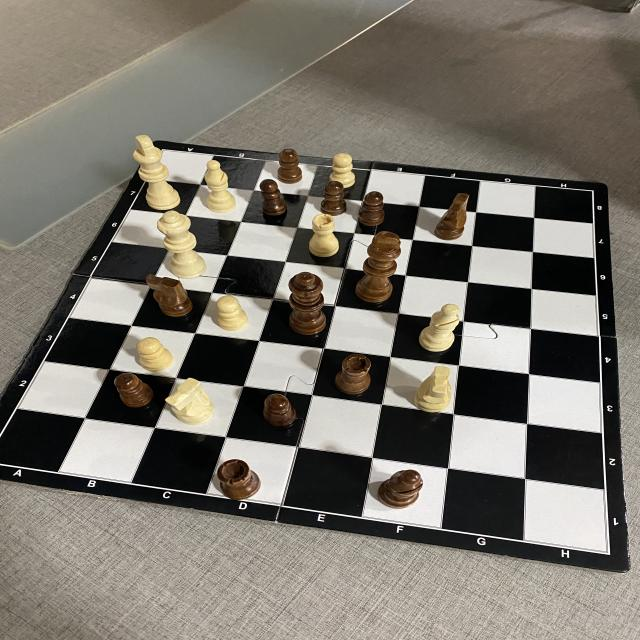Black-Bishop: (376, 468, 424, 511)
Black-King: (356, 231, 404, 303)
Black-Knight: (143, 274, 202, 318), (432, 191, 478, 241)
Black-Pawn: (114, 372, 156, 408), (262, 391, 300, 428), (259, 178, 290, 218), (320, 179, 348, 217), (358, 190, 386, 227), (276, 147, 303, 185)
Black-Queen: (285, 271, 329, 338)
Black-Rook: (215, 456, 262, 502), (334, 350, 374, 397)
White-Bishop: (416, 301, 462, 353), (202, 159, 240, 214)
White-King: (131, 134, 183, 212)
White-Knight: (164, 376, 213, 426), (414, 365, 452, 415)
White-Pawn: (134, 335, 174, 371), (214, 294, 248, 332), (328, 152, 356, 188)
White-Queen: (156, 210, 208, 277)
White-Rook: (307, 212, 340, 261)
